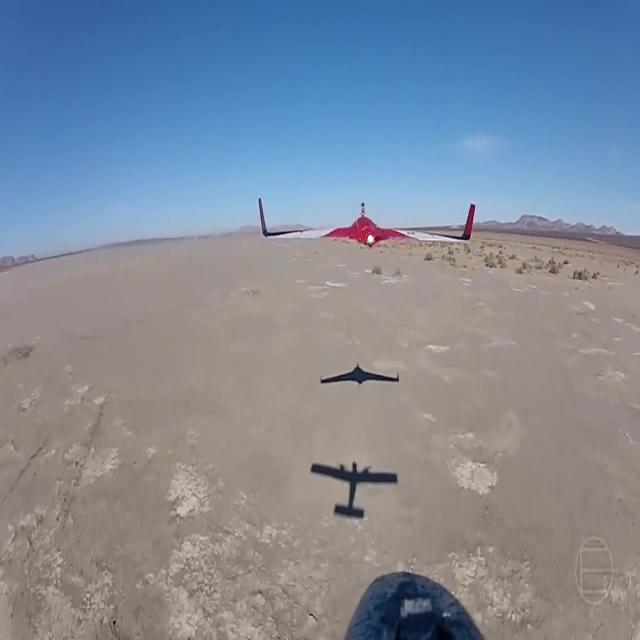iha: (253, 197, 478, 251)
